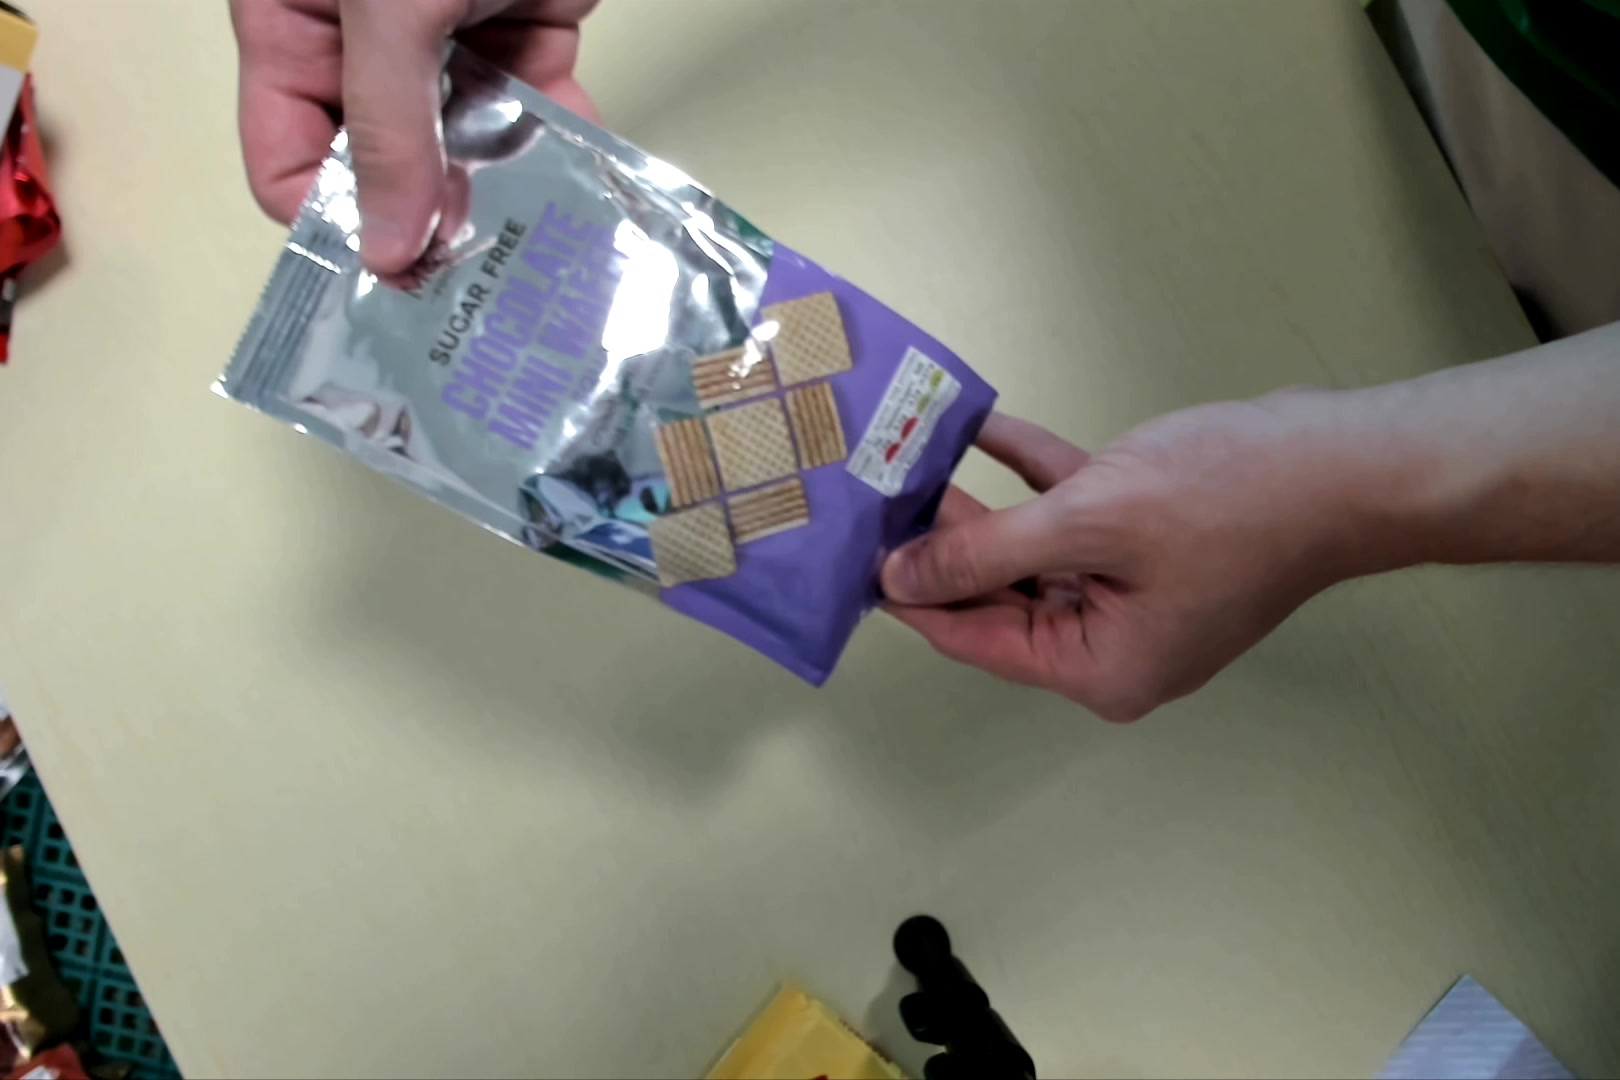SweetsChocolatesOthers_100-199g_NonHalal_NonHealthy: (231, 52, 990, 691)
